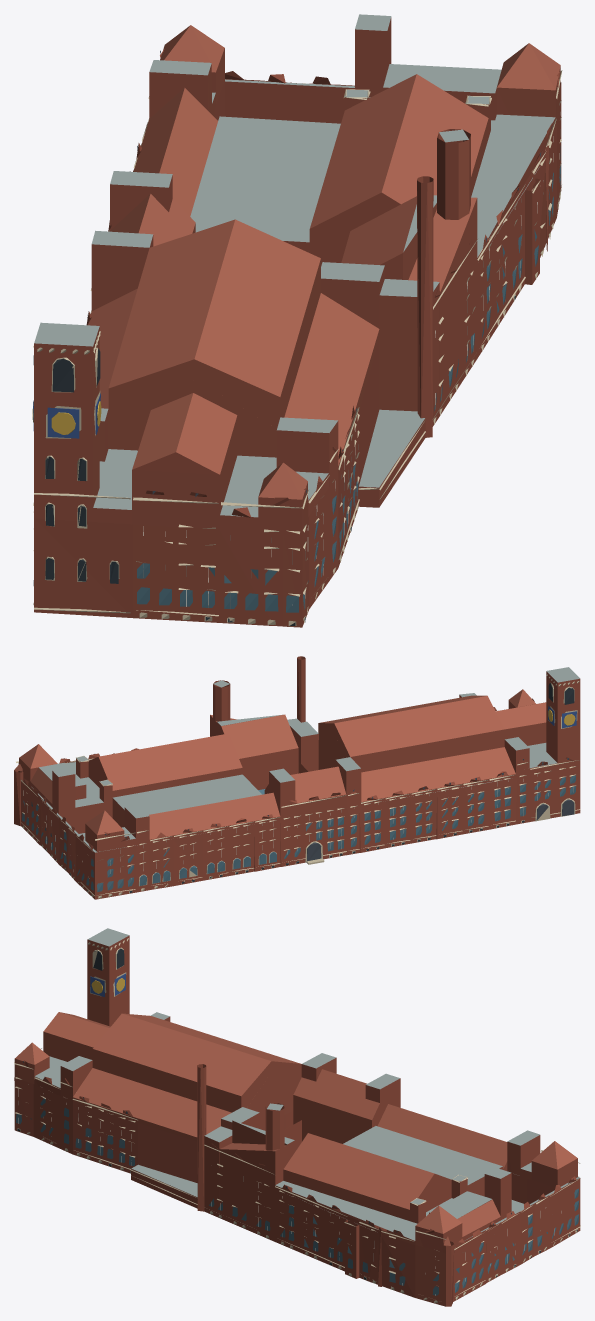
File: de-beurs-van-berlage.lod1.glb
3 renders of one model, top to bottom at view 1: azimuth 30°, elevation 25°; view 2: azimuth 150°, elevation 25°; view 3: azimuth 270°, elevation 25°, orthographic. The views are drawn at different scales.
Parts seen in each view (by area): view 1: de-beurs-van-berlage; view 2: de-beurs-van-berlage; view 3: de-beurs-van-berlage.
Part boxes in pixels (x1,y1,x2,y2): de-beurs-van-berlage: (32,14,562,627); de-beurs-van-berlage: (14,656,580,899); de-beurs-van-berlage: (14,928,580,1306).
Size of the model in its own units: 129 by 39.99 by 136.
